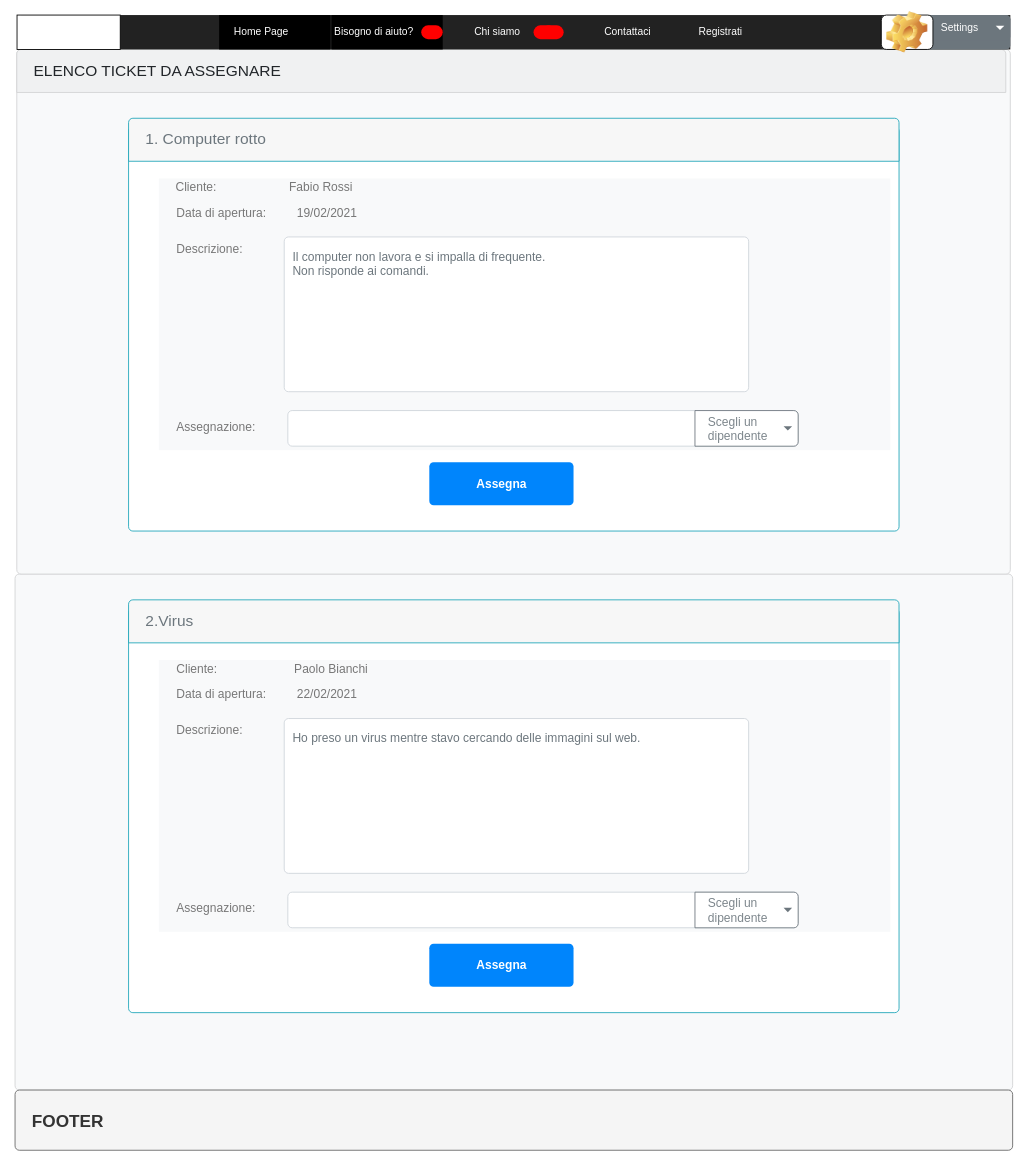
This 1028x1165 diagram has some shape labels left out. Each missing label, with the box of its shape:
Icon: (880, 14, 933, 49)
LOGO: (16, 14, 120, 49)
